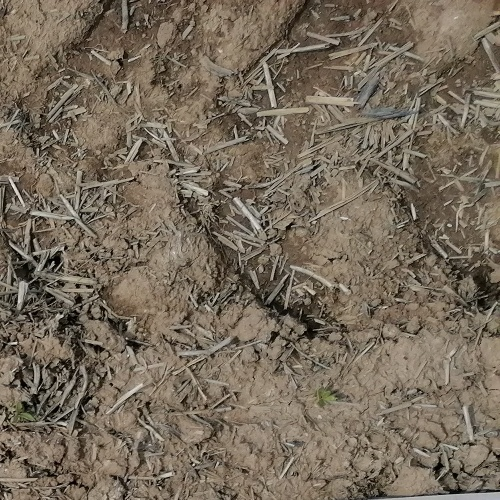beet: (10, 401, 38, 426), (311, 384, 341, 403)
